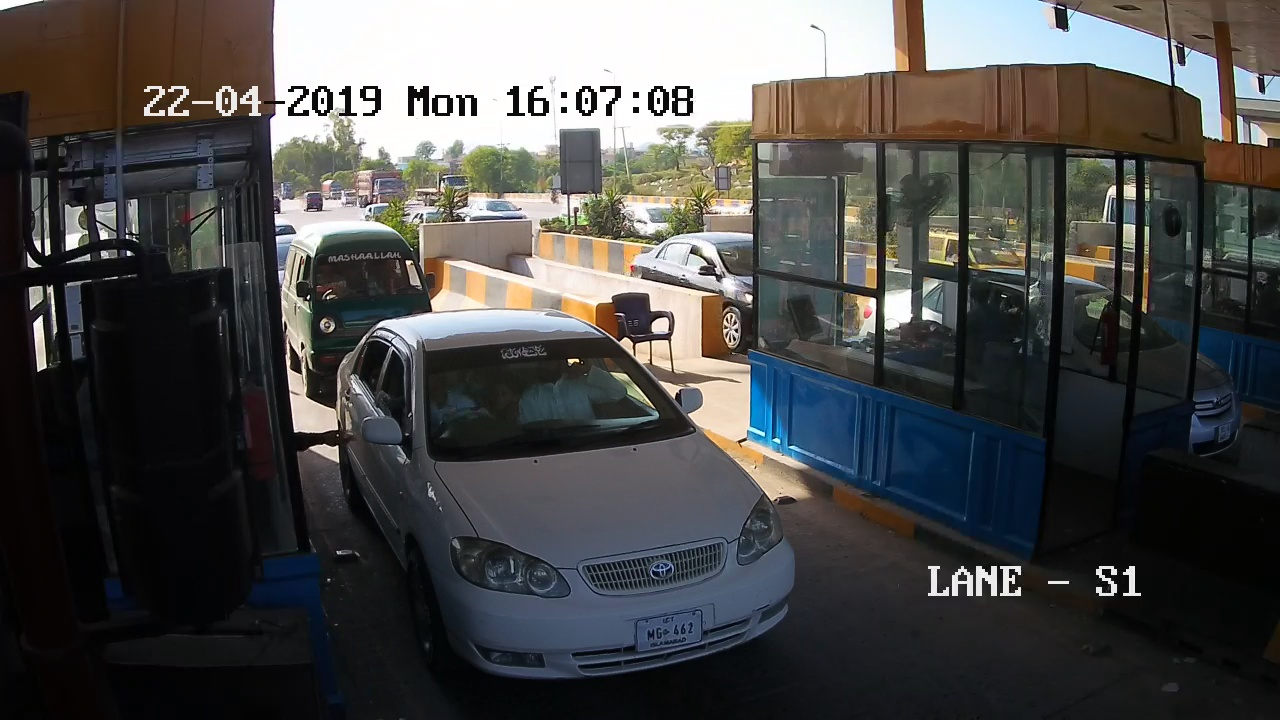Number Plate (Car): (638, 614, 699, 650)
